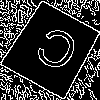C: (26, 24, 83, 82)
